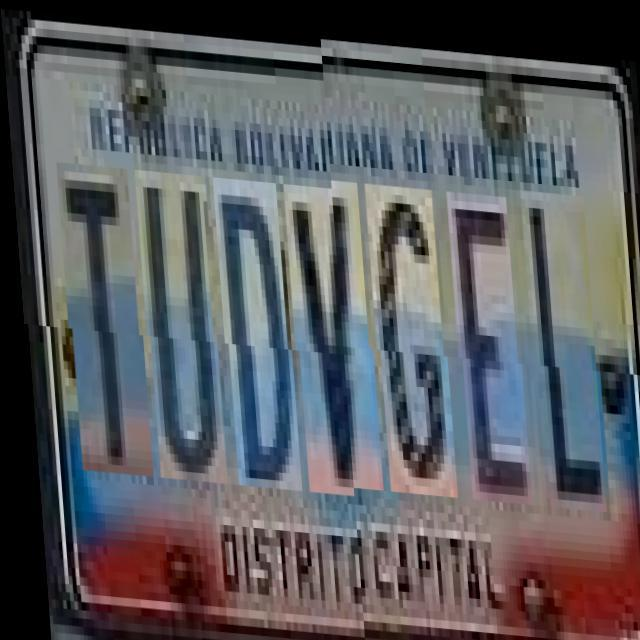D: (214, 174, 295, 486)
E: (448, 191, 526, 503)
G: (366, 185, 451, 498)
L: (522, 188, 604, 510)
T: (58, 162, 146, 474)
U: (136, 167, 220, 480)
V: (284, 178, 376, 492)
